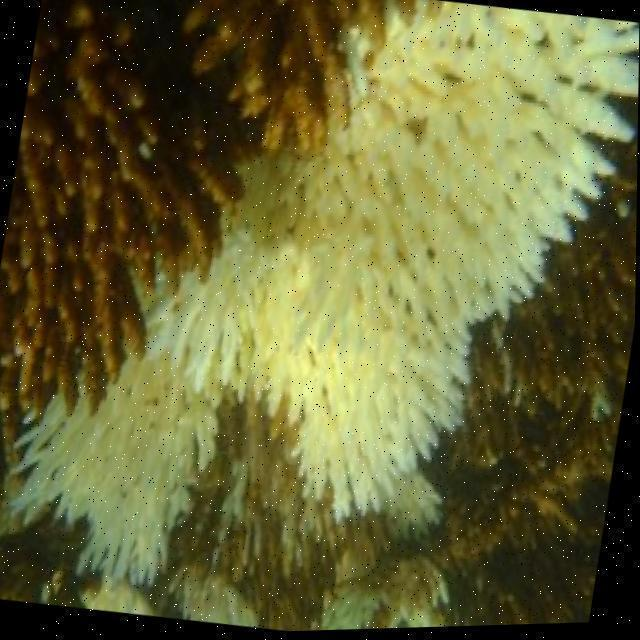Bleached Coral: (227, 0, 518, 540), (400, 1, 640, 351), (0, 322, 246, 618)
